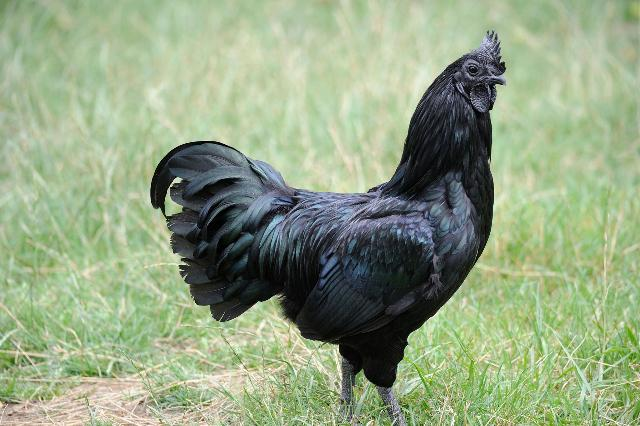Chicken: (149, 30, 508, 425)
